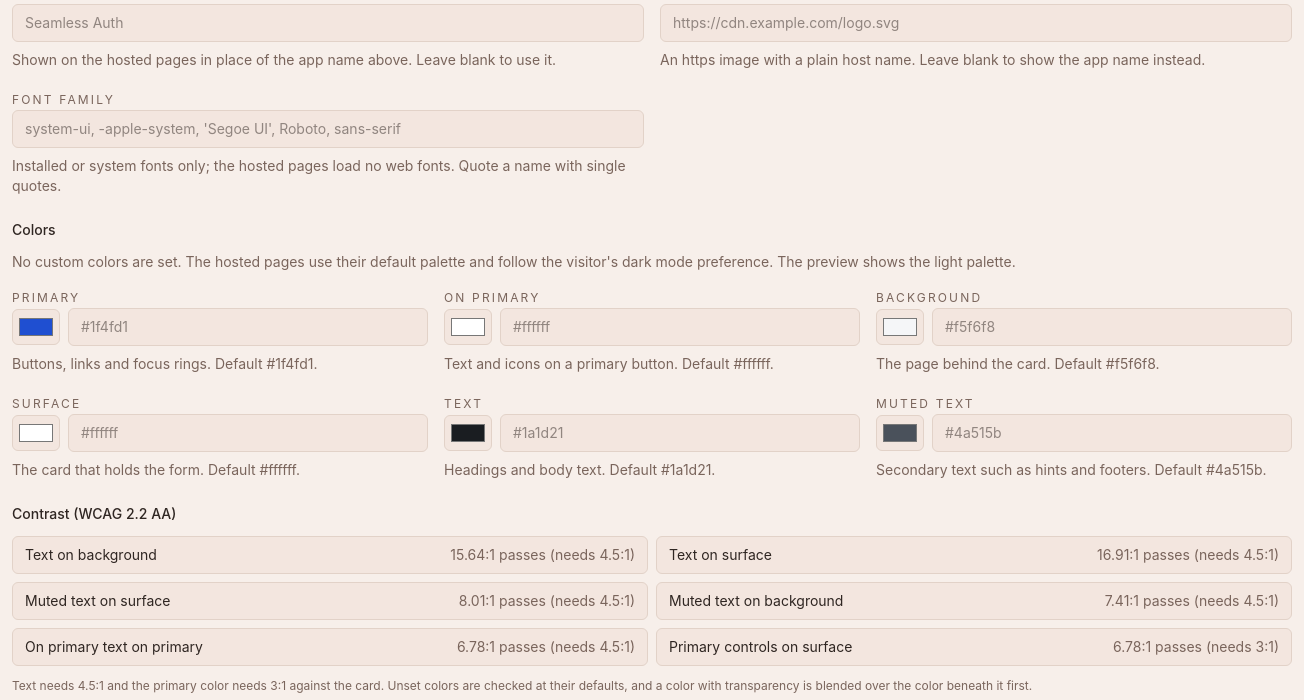
Scenario: HostedUiBrandingEditor › updates the preview as the brand name changes
The width and height of the screenshot is (1304, 700).
Type "Acme" into the field labelled "Brand Name". click: (328, 23)
box: [12,4,644,42]
(page scrolled)
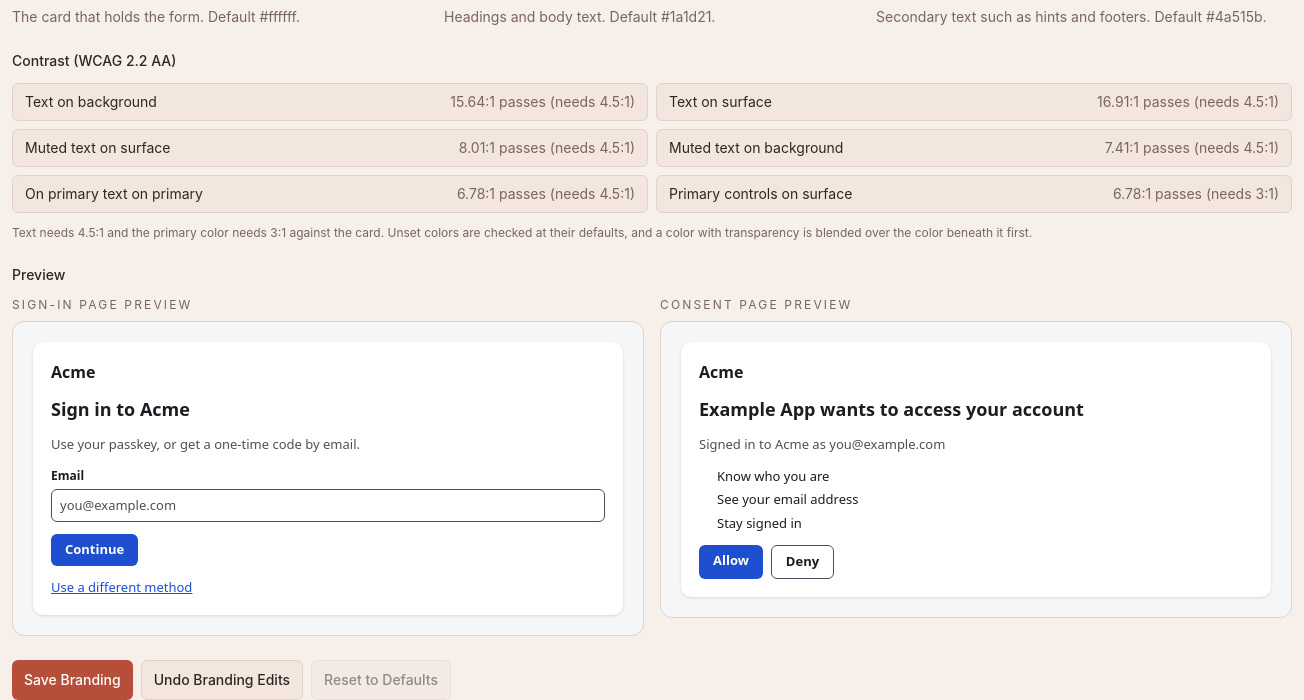
Check: the element "Sign-in page preview" shows "Sign in to Acme", box [12,297,644,636]
